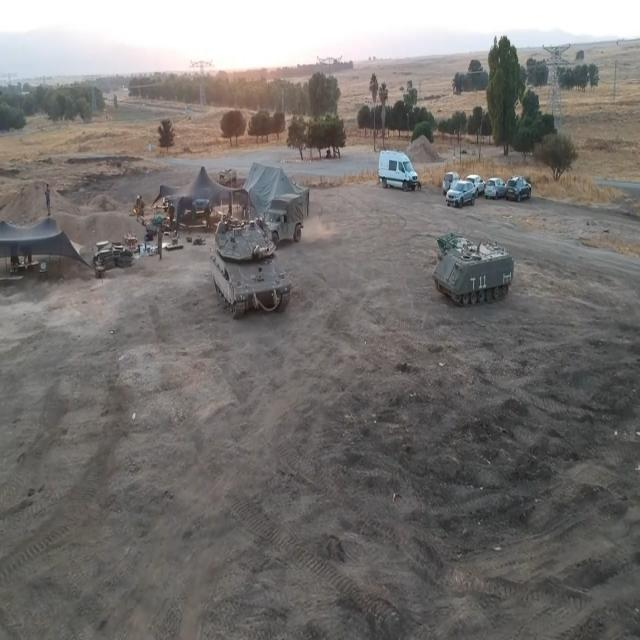tank: (212, 218, 298, 325)
